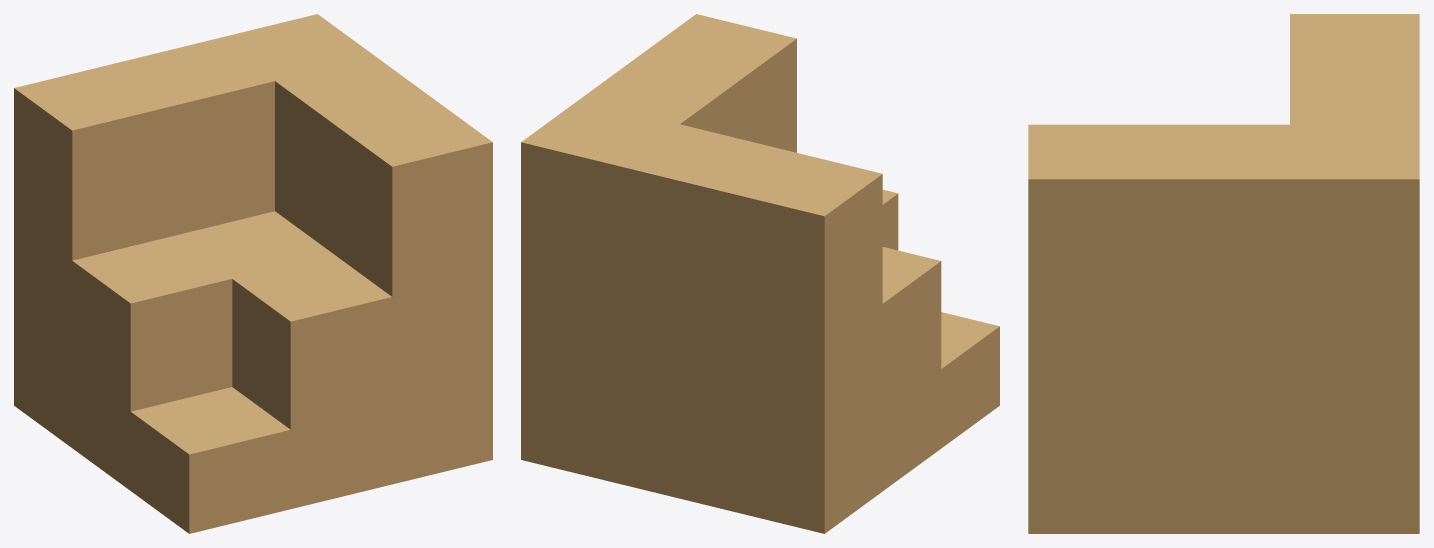
Rendered from ST_Env_BackgroundEdge_02.fbx.
3 renders of one model, left to right at view 1: azimuth 30°, elevation 25°; view 2: azimuth 150°, elevation 25°; view 3: azimuth 270°, elevation 25°, orthographic. The views are drawn at different scales.
Visible parts, largest first — view 1: ST_Env_BackgroundEdge_02; view 2: ST_Env_BackgroundEdge_02; view 3: ST_Env_BackgroundEdge_02.
Boxes of the visible parts, left/top/right/bottom form: ST_Env_BackgroundEdge_02: left=14, top=14, right=492, bottom=533; ST_Env_BackgroundEdge_02: left=521, top=14, right=999, bottom=533; ST_Env_BackgroundEdge_02: left=1028, top=14, right=1419, bottom=533.
Bounding box in the file's own units: 10 × 10 × 10.
